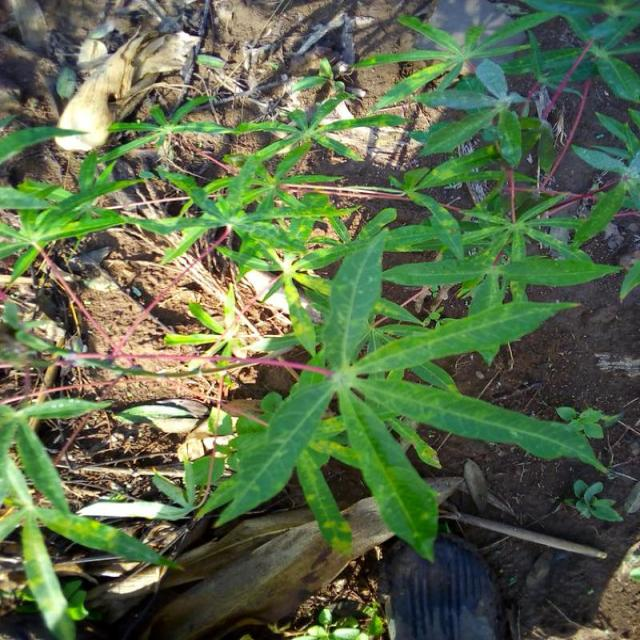cassava leaf: (191, 207, 607, 563)
